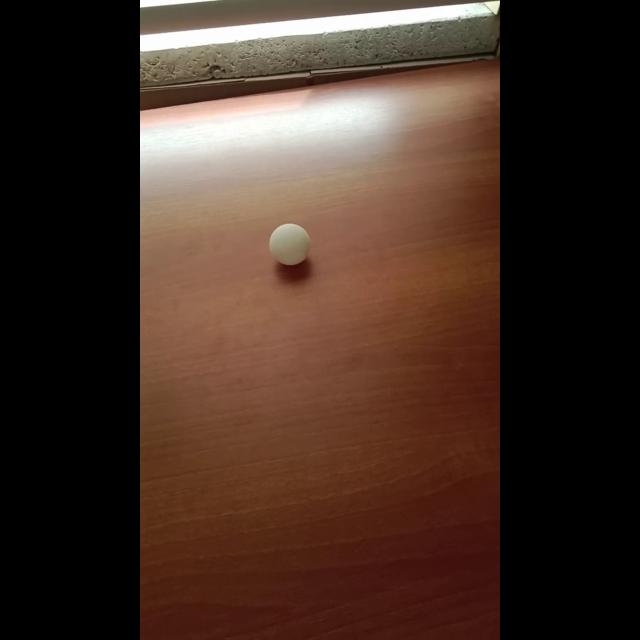white ball: (269, 222, 311, 266)
